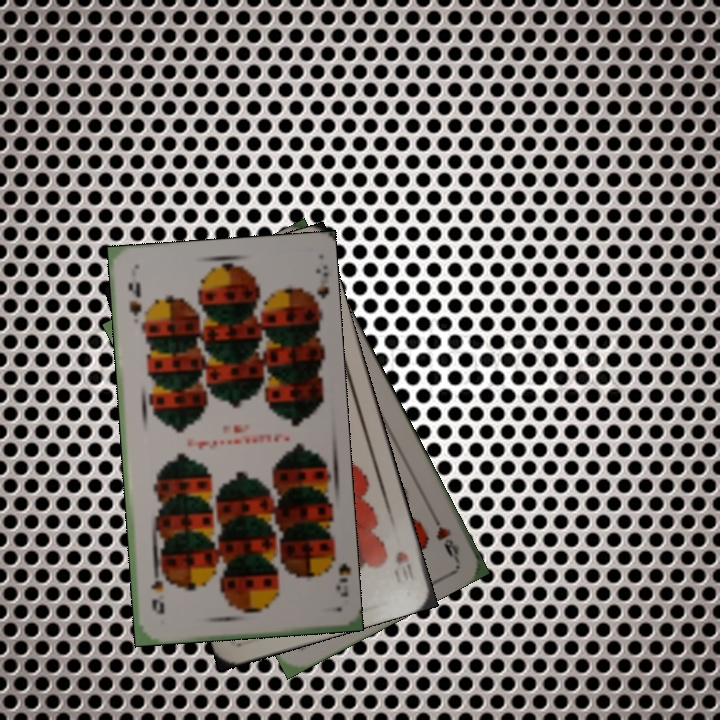H10: (391, 547, 417, 583)
H9: (425, 507, 462, 562)
S9: (323, 547, 351, 599), (124, 278, 145, 319)
